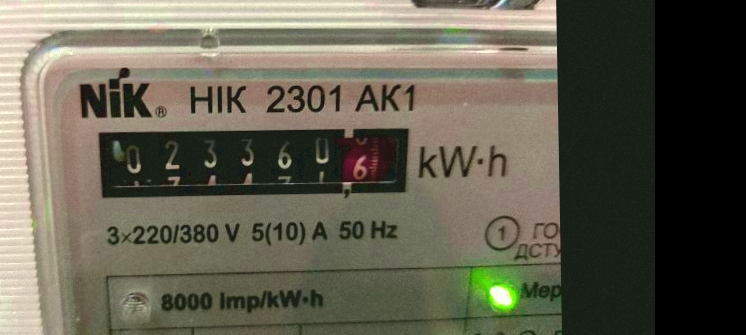0: (122, 141, 143, 175), (313, 134, 330, 165)
2: (160, 137, 183, 172)
3: (198, 137, 219, 169), (237, 135, 256, 166)
6: (348, 151, 370, 181), (273, 138, 293, 170)
screen: (79, 109, 423, 213)
